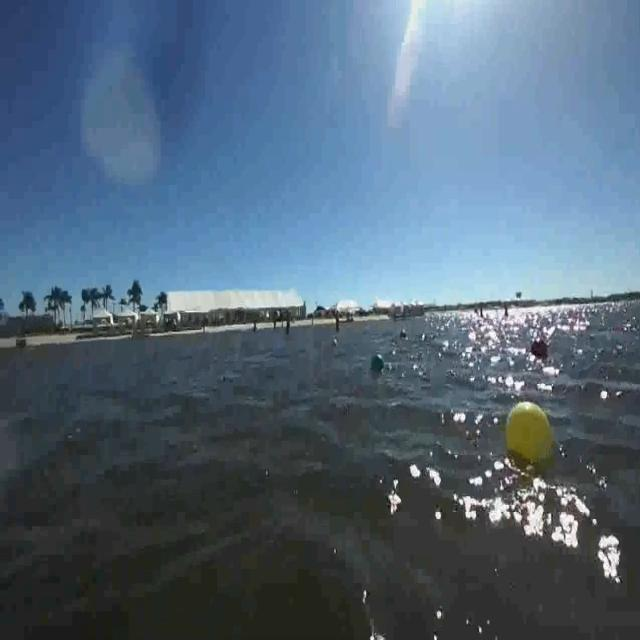yellow-buoy: (499, 398, 557, 468)
